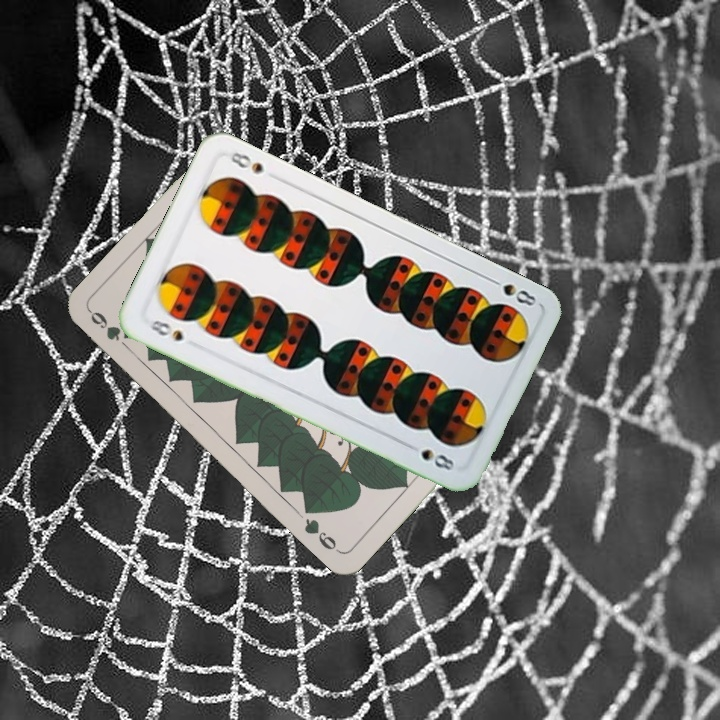G9: (86, 307, 123, 344)
S8: (484, 273, 539, 309), (145, 316, 186, 344)
